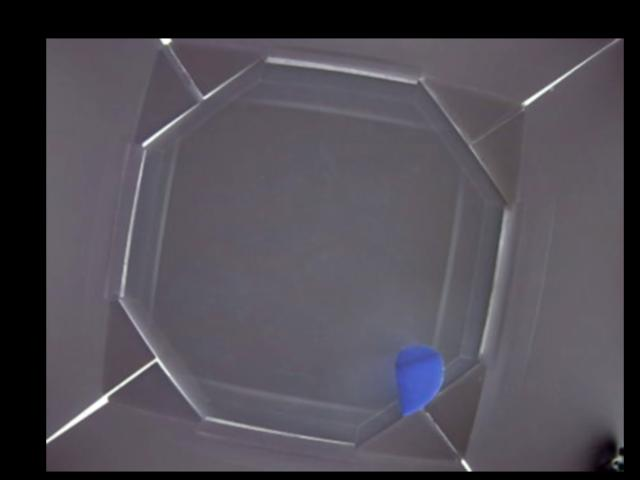Potato: (394, 344, 445, 415)
